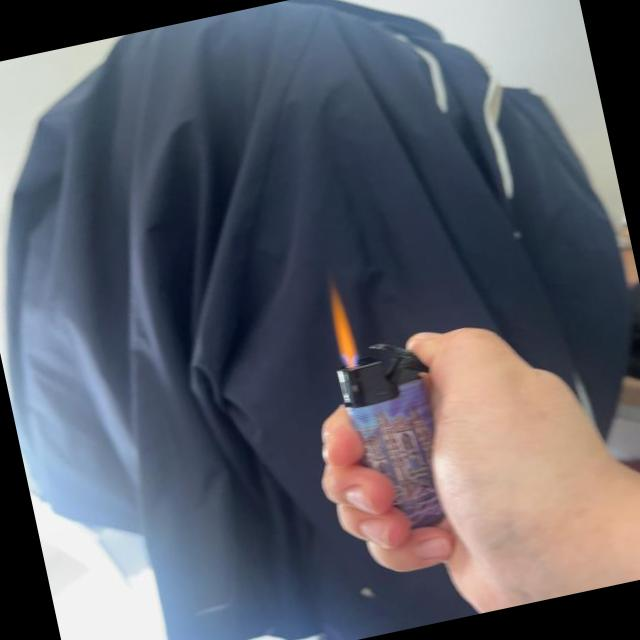Fire: (322, 281, 363, 369)
